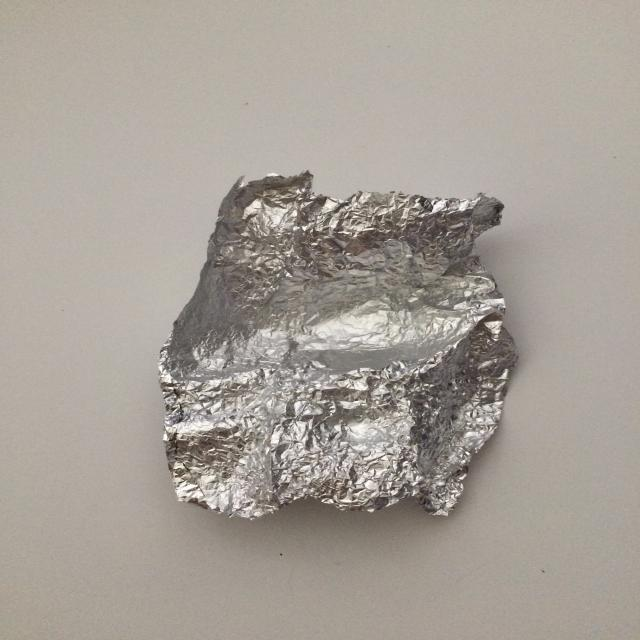metal: (156, 169, 518, 520)
